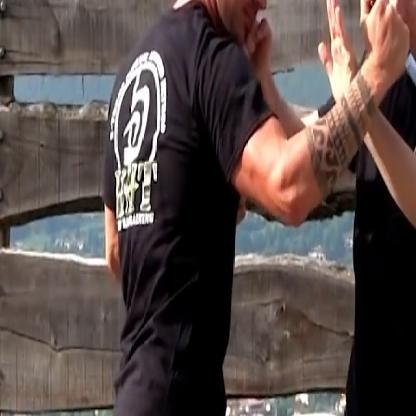knife: (358, 0, 415, 144)
